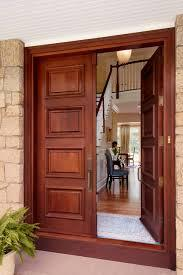chair: (103, 149, 127, 194), (127, 143, 137, 169)
door: (32, 48, 96, 239), (142, 44, 164, 247)
light: (118, 47, 132, 63), (136, 100, 142, 112)
